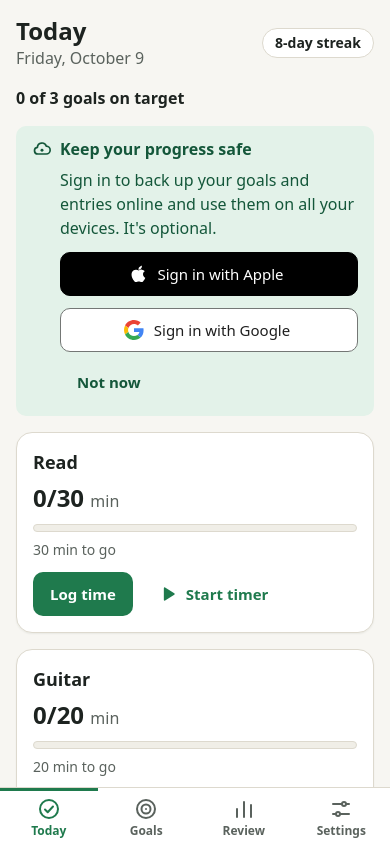
Test: LoginPromptBanner on iOS › Apple above Google, then Not now; Apple → authService.signIn('#/today', 'apple'); the banner stays busy on the tapped button, the other disabled
Click the button "Sign in with Apple". click: [209, 274]
box: [60,252,358,296]
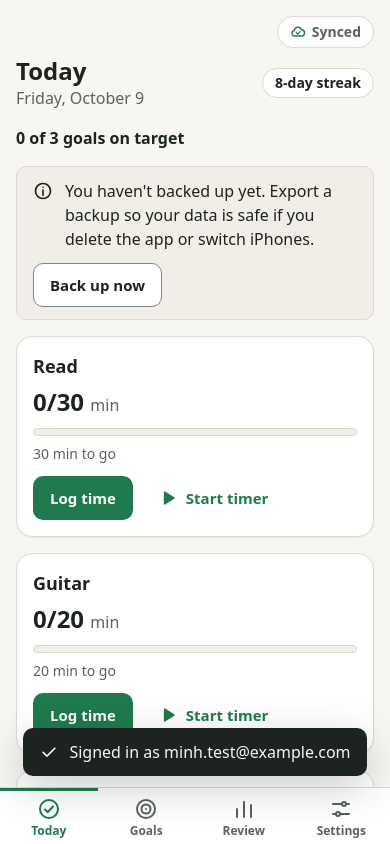
Now the element with test id "login-prompt-banner" is gone
Now the element with test id "toast" shows "Signed in", box [69,741,350,763]
